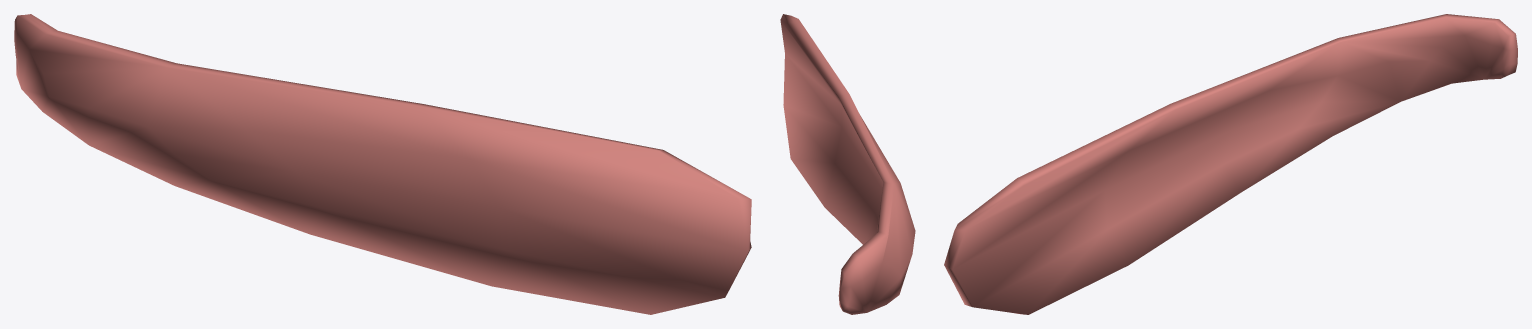
3 renders of one model, left to right at view 1: azimuth 30°, elevation 25°; view 2: azimuth 150°, elevation 25°; view 3: azimuth 270°, elevation 25°, orthographic. The views are drawn at different scales.
Visible parts, largest first — view 1: ZA_47822c5f104b2fac; view 2: ZA_47822c5f104b2fac; view 3: ZA_47822c5f104b2fac.
Part boxes in pixels (<box>): ZA_47822c5f104b2fac: <box>14,14,751,314</box>; ZA_47822c5f104b2fac: <box>780,14,915,314</box>; ZA_47822c5f104b2fac: <box>944,14,1517,314</box>.
Bounding box in the file's own units: 0.0328 × 0.0137 × 0.0458.
